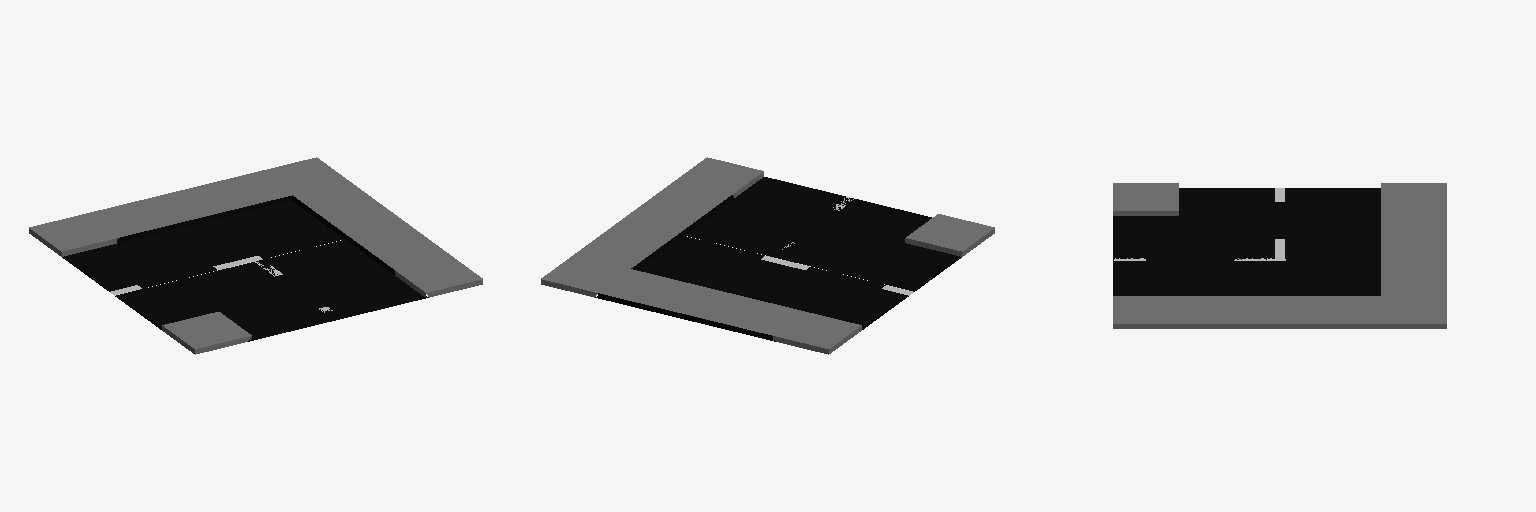
The model's file is bend.obj.
3 views of the same model, side by side, from view 1: azimuth 30°, elevation 25°; view 2: azimuth 150°, elevation 25°; view 3: azimuth 270°, elevation 25° (orthographic).
Parts seen in each view (by area): view 1: Plane, Plane.002; view 2: Plane, Plane.002; view 3: Plane, Plane.002.
Boxes of the visible parts, <box> form: Plane: <box>29,157,482,354</box>; Plane.002: <box>110,221,344,312</box>; Plane: <box>541,157,994,354</box>; Plane.002: <box>679,197,913,295</box>; Plane: <box>1113,183,1446,328</box>; Plane.002: <box>1114,188,1380,295</box>.
Bounding box in the file's own units: 1 × 0.0177 × 1.